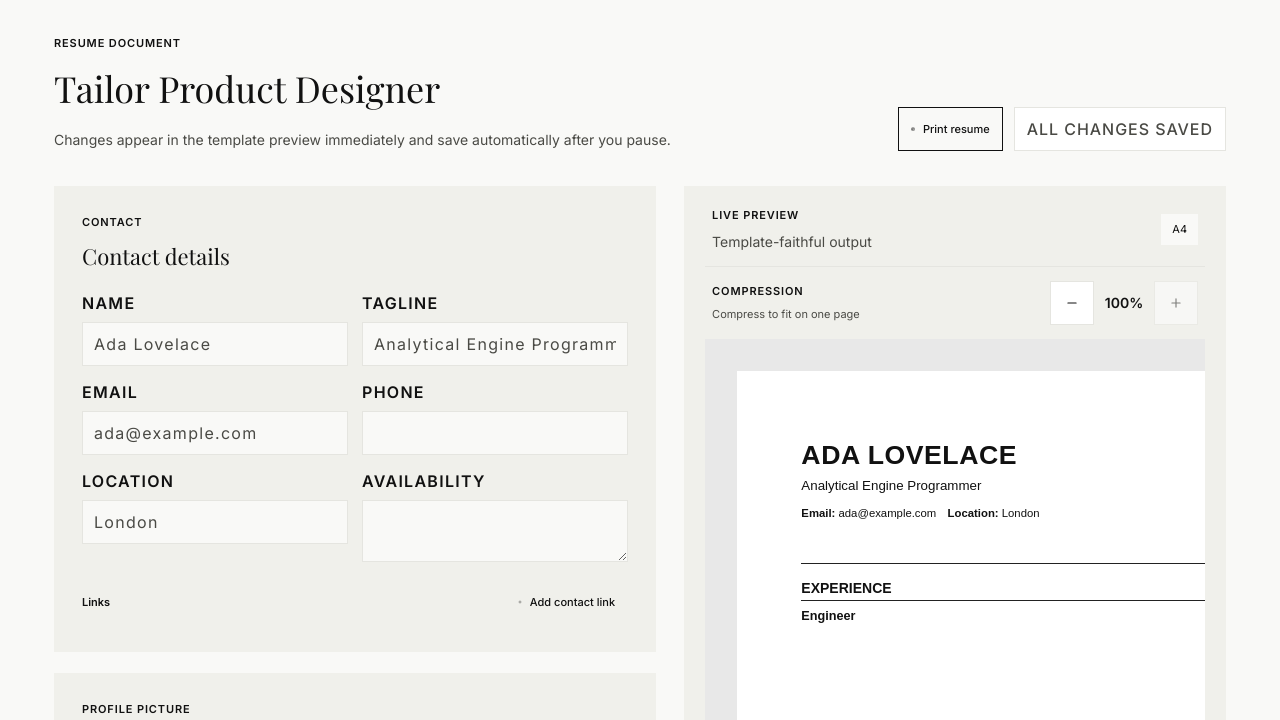
Scenario: MasterProfileEditor › provides a per-document compression control in 10% steps
Expected: the text named "Compression level" reads "100%", [1103,292,1145,313]
What coordinates should you click on to do the following:
click the button named "Compress"
I would click on:
 (1072, 303)
Its box is [1050,281,1094,325].
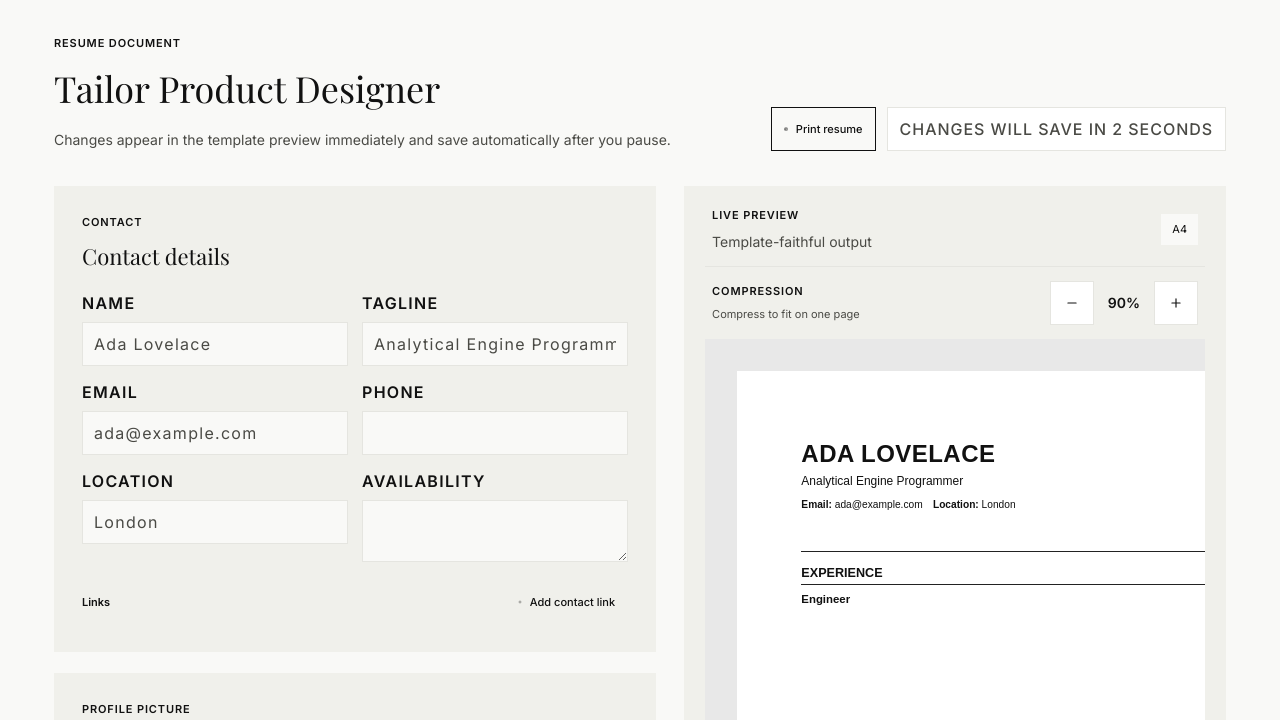
Expected: the text named "Compression level" reads "90%", [1108,294,1140,311]
What coordinates should you click on to do the following:
click the button named "Expand"
I would click on:
 (1176, 303)
Its box is [1154,281,1198,325].
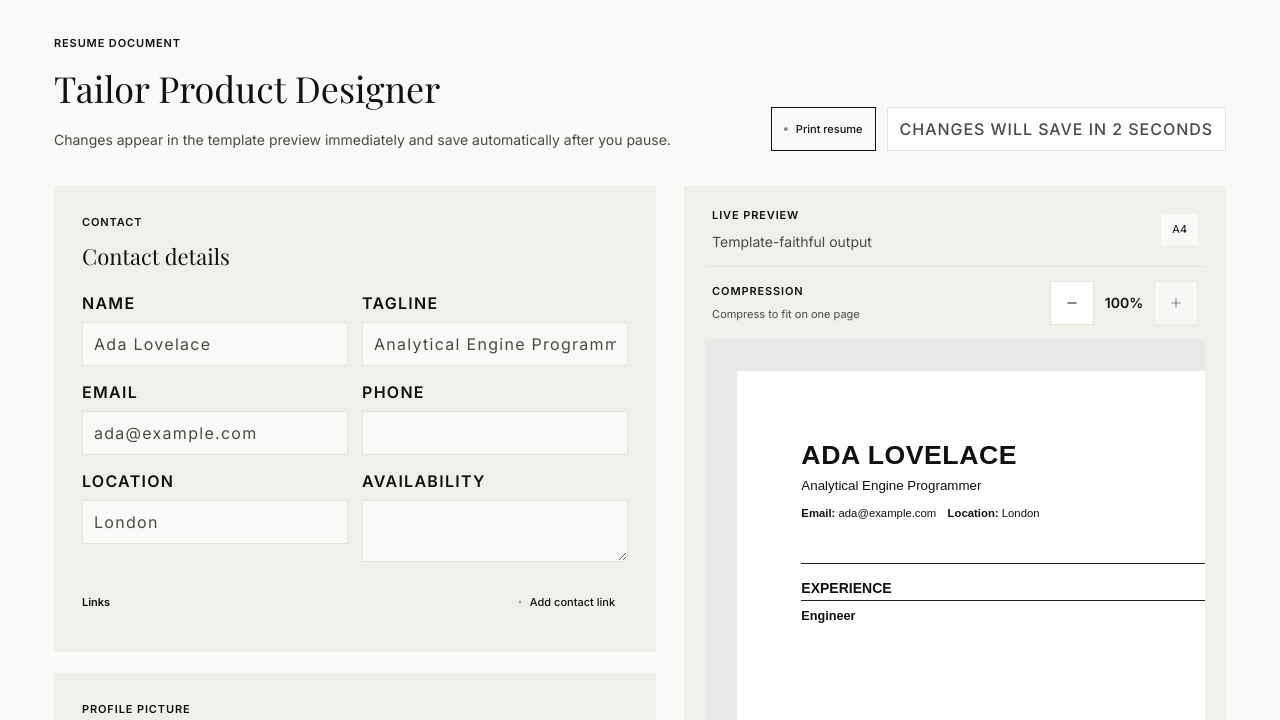
Expected: the text named "Compression level" reads "100%", [1103,292,1145,313]
